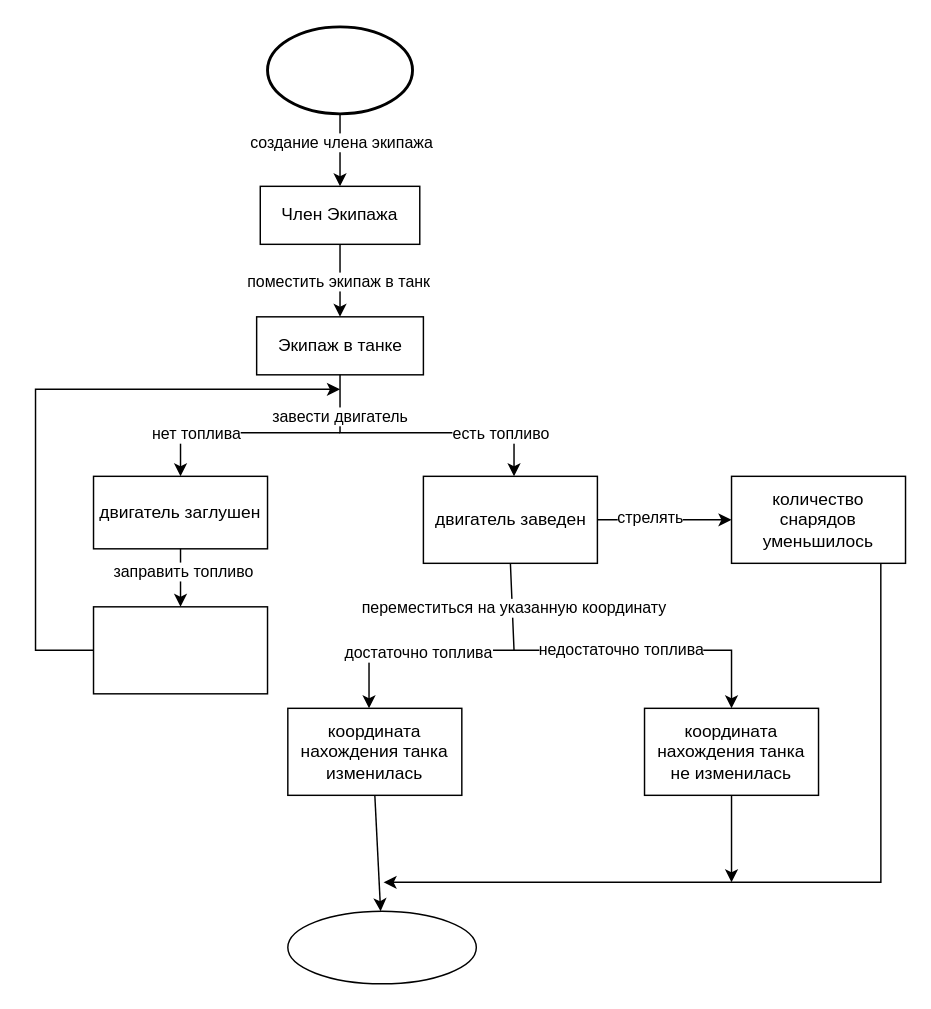
The diagram is 931 pixels wide and 1009 high, and some of its shapes have lost their labels. Here are the shapes that lost their labels. From the top down, the box of each, then its label:
(265, 25, 413, 115): Начало
(92, 605, 268, 694): танк заправлен
(286, 910, 476, 984): конец
